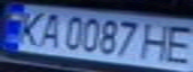0: (57, 14, 84, 52), (78, 15, 103, 54)
7: (115, 18, 145, 58)
8: (96, 17, 121, 56)
A: (33, 11, 66, 50)
E: (157, 21, 193, 66)
H: (136, 20, 178, 63)
K: (9, 8, 48, 47)
